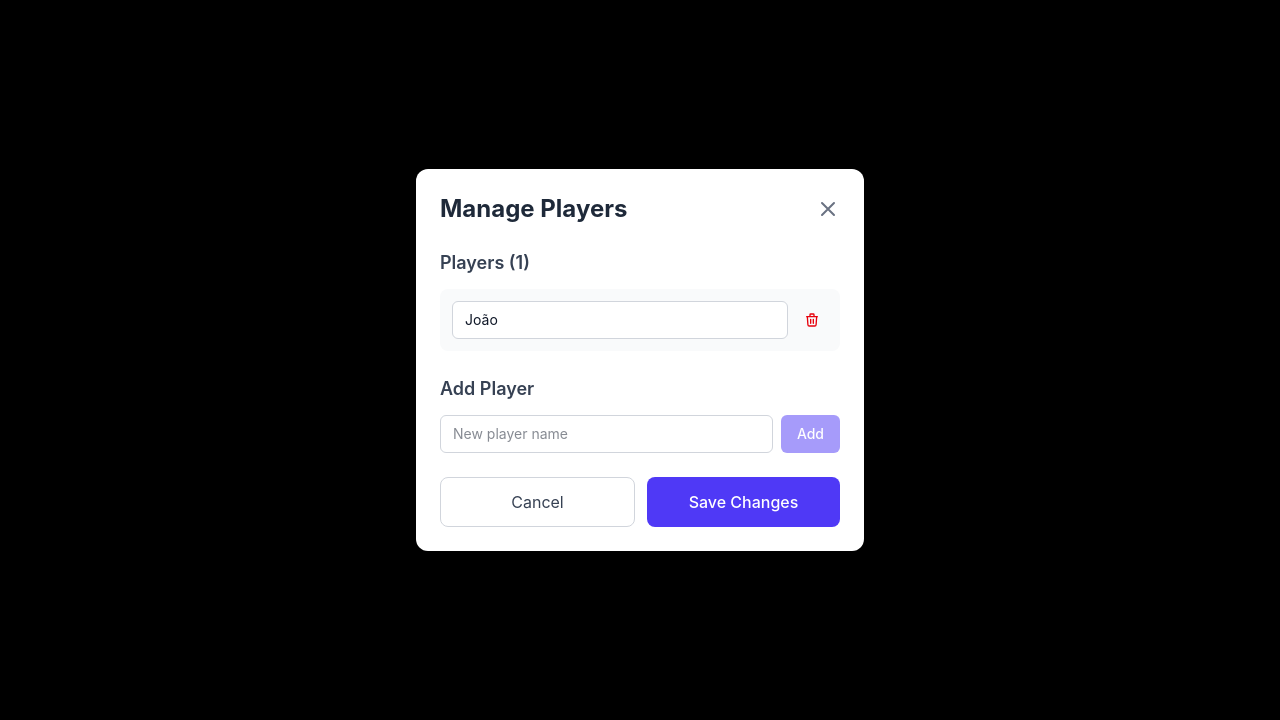
PlayerManagerModal › tests error clearing when typing in the new player input
This screenshot has width=1280, height=720.
In the field with placeholder "New player name": (606, 434) [440,415,773,453], type "A"
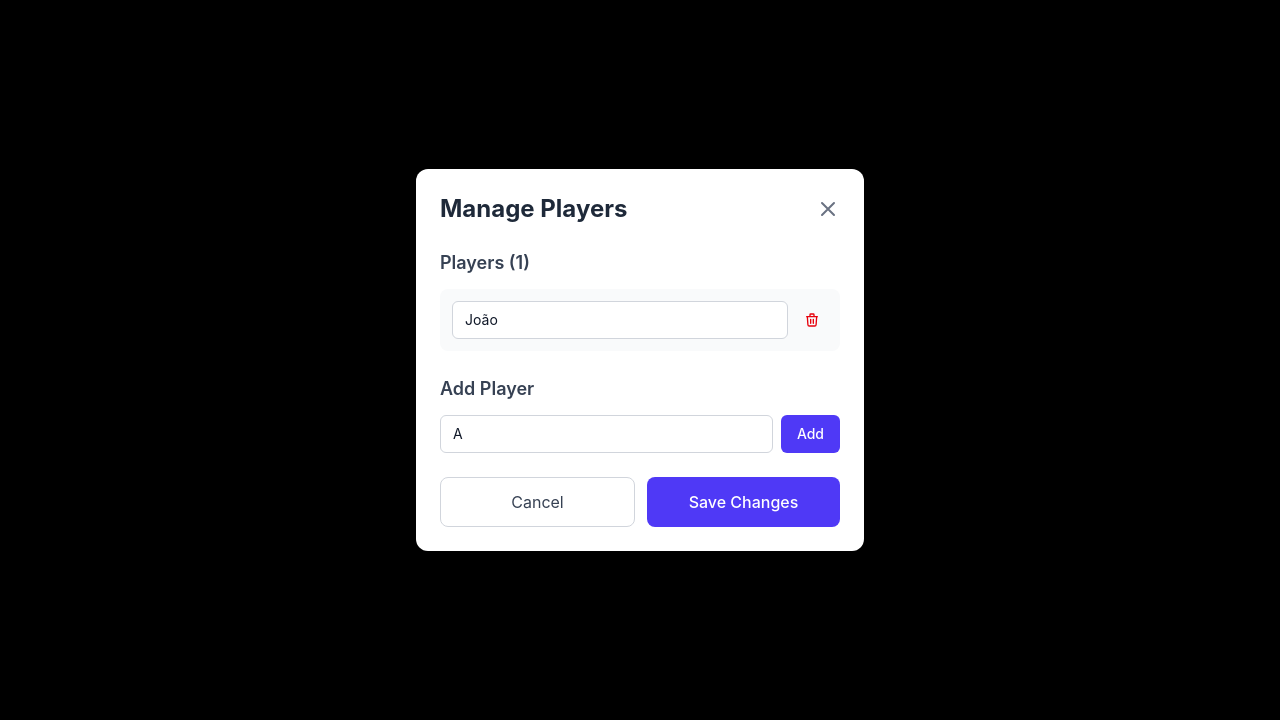
Click the button "Add": (810, 434) [781,415,840,453]
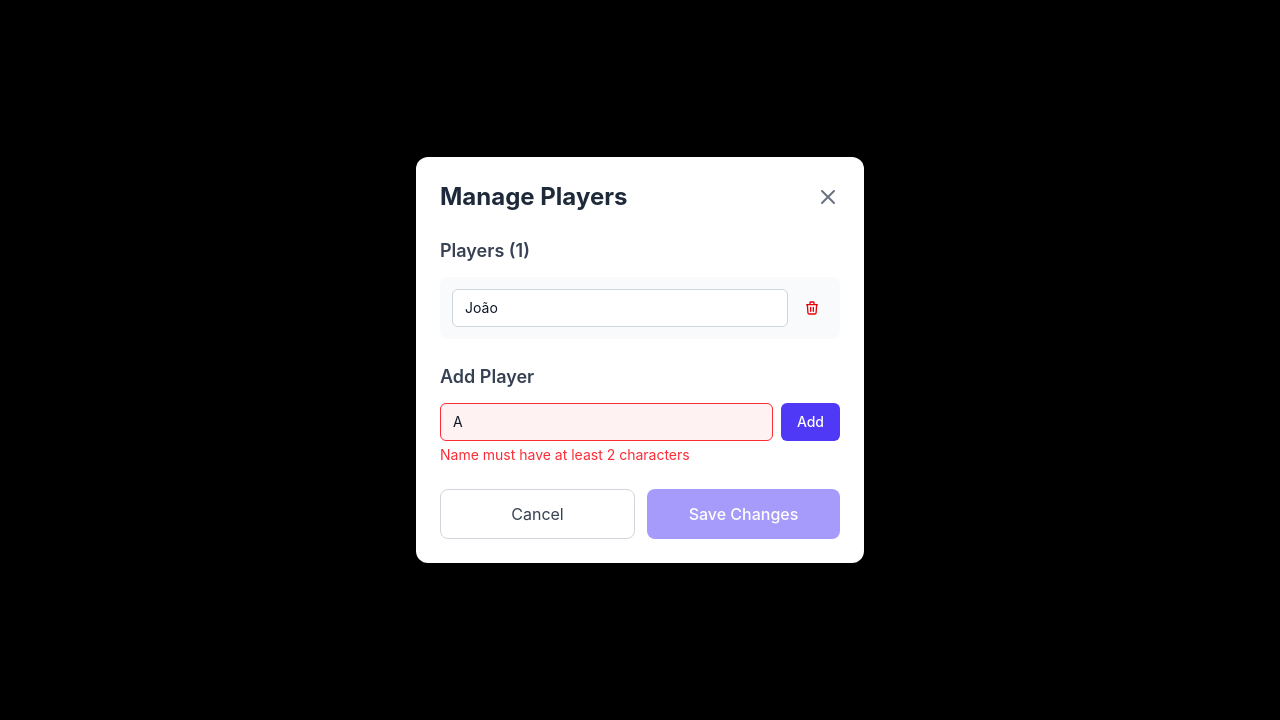
Expected: the text "Name must have at least 2 characters" is shown, [440,446,690,463]
Note: Now type a valid name
Replace the text in the field with placeholder "New player name" below "Add Player" with "Pedro": (606, 422) [440,403,773,441]
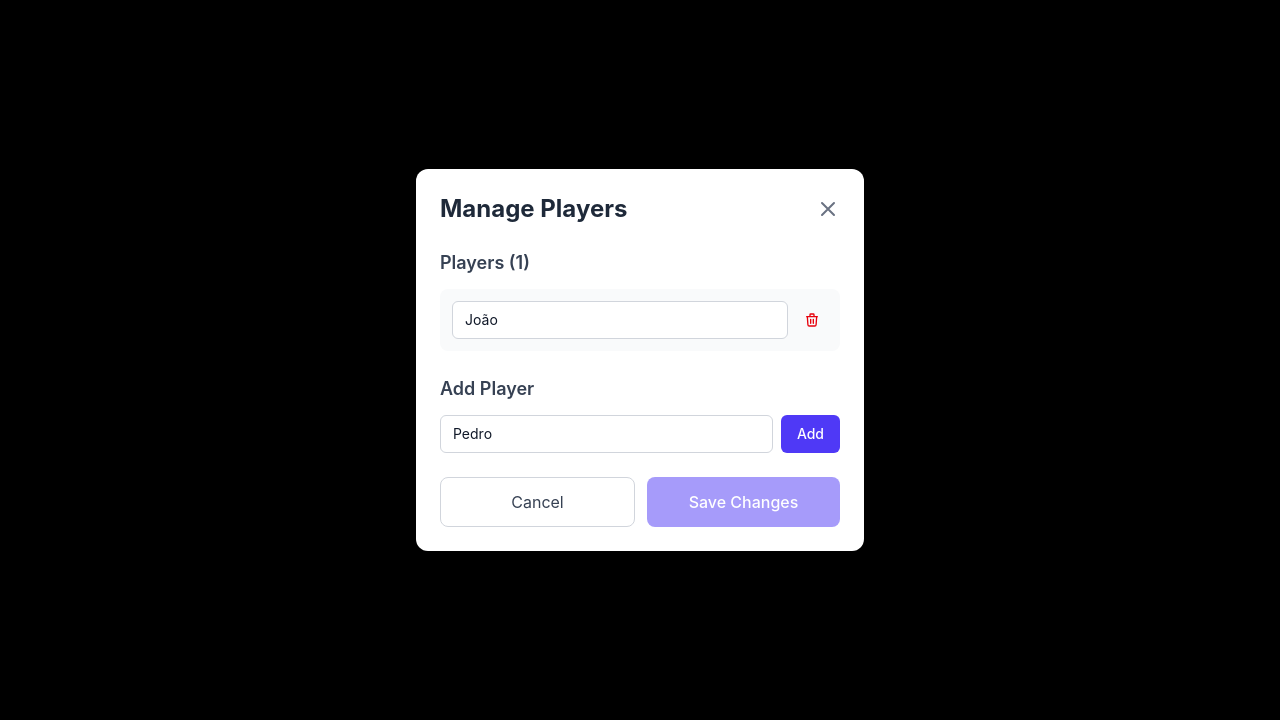
Expected: the text "Name must have at least 2 characters" is gone
